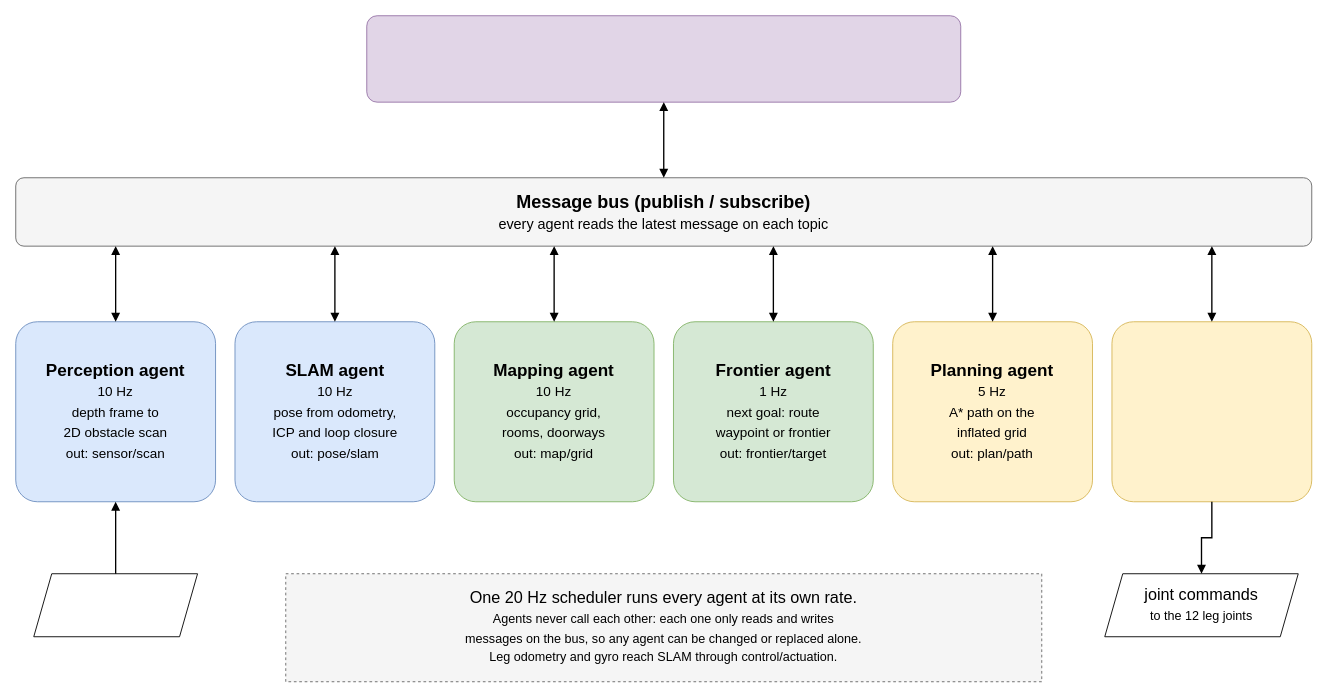
This 1328x698 diagram has some shape labels left out. The centre of each missing label's shape, as x and y in pixels:
Kinect depth + colour frames: pixel 115 605
Locomotion agent 20 Hz trot gait, watchdog, edge check out: control/actuation: pixel 1211 411
Supervisor agent (2 Hz) mission state, knowledge graph of rooms, event timeline: pixel 663 58
